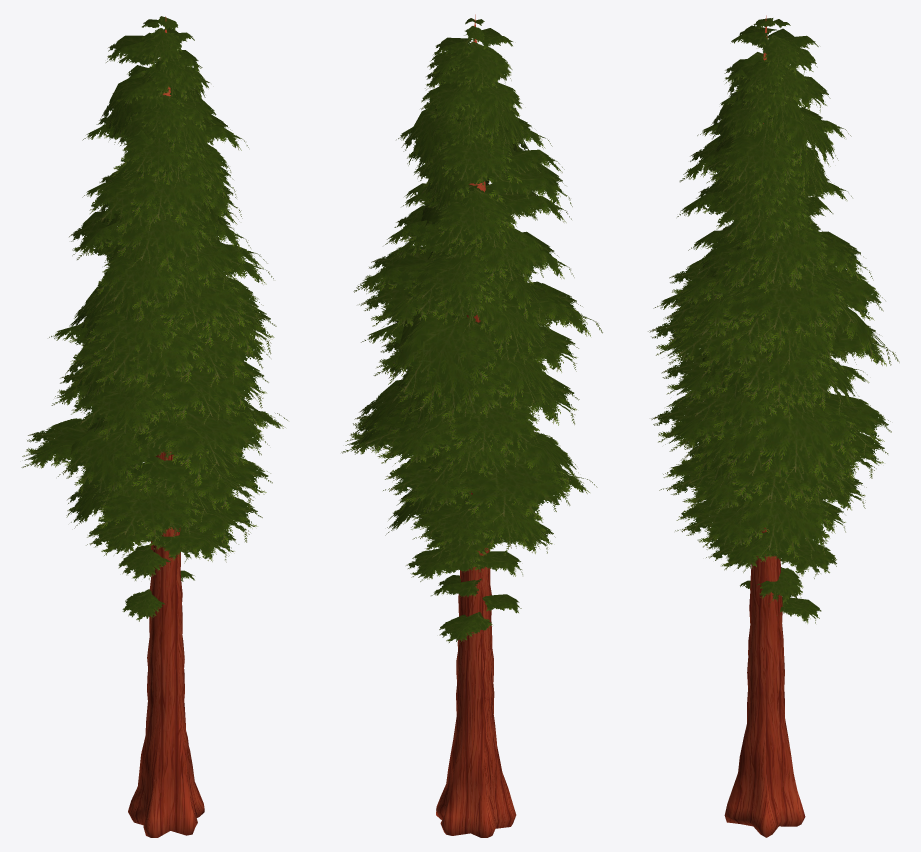
Rendered from sq-med-1.glb.
The picture shows the model from 3 angles, left to right: view 1: azimuth 30°, elevation 25°; view 2: azimuth 150°, elevation 25°; view 3: azimuth 270°, elevation 25°; orthographic projection.
Visible parts, largest first — view 1: sq-med-1; view 2: sq-med-1; view 3: sq-med-1.
Part boxes in pixels (<box>): sq-med-1: <box>21,16,287,837</box>; sq-med-1: <box>341,14,602,837</box>; sq-med-1: <box>648,15,899,837</box>.
Bounding box in the file's own units: 10.33 × 30.89 × 9.28.
Materials: 2 (2 with a texture image).
